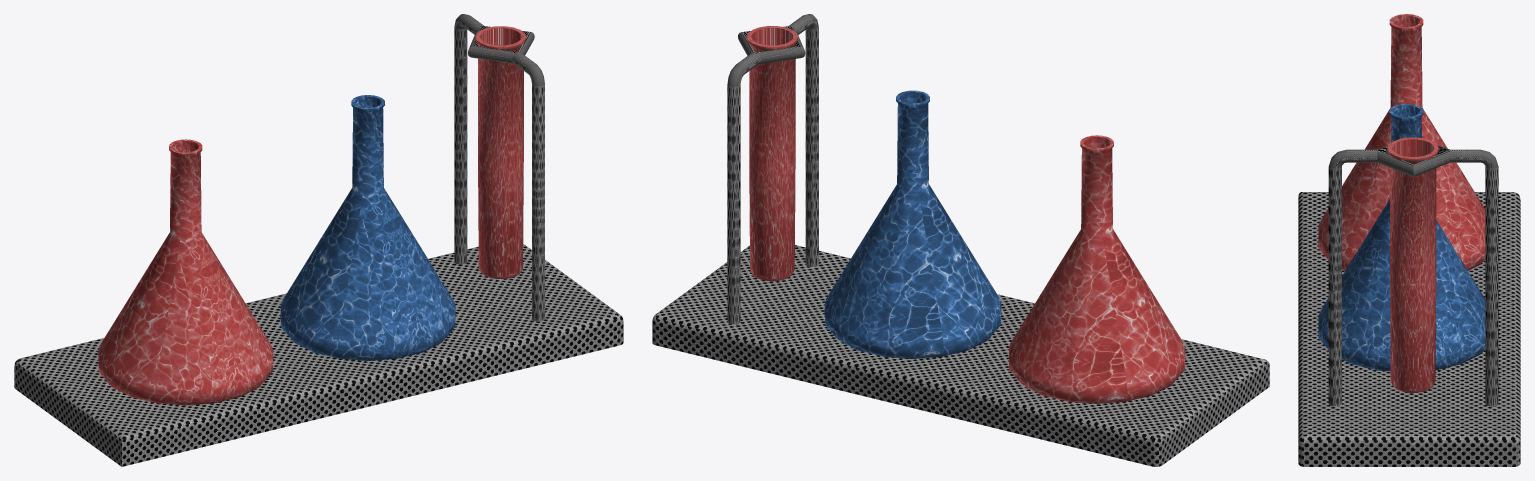
Rendered from akcesoria.FBX.
3 renders of one model, left to right at view 1: azimuth 30°, elevation 25°; view 2: azimuth 150°, elevation 25°; view 3: azimuth 270°, elevation 25°, orthographic.
Visible parts, largest first — view 1: Box001; view 2: Box001; view 3: Box001.
Boxes of the visible parts, box(x1,y1,x2,y2) form: Box001: box(14, 14, 623, 466); Box001: box(652, 14, 1269, 466); Box001: box(1298, 14, 1520, 466).
Bounding box in the file's own units: 151 × 80.84 × 57.12.
Materials: 3 (3 with a texture image).
